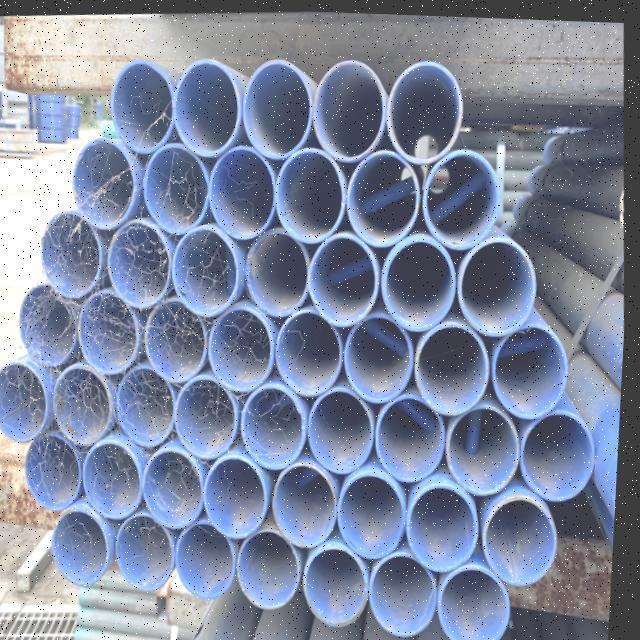pipe: (387, 56, 468, 160), (309, 55, 391, 157), (425, 142, 505, 244), (460, 232, 541, 332), (497, 318, 581, 413), (239, 57, 315, 158), (105, 59, 184, 153), (417, 318, 495, 411), (174, 57, 244, 159), (278, 146, 349, 246), (374, 396, 455, 483), (525, 403, 600, 496), (386, 231, 461, 323), (354, 147, 425, 244), (210, 144, 281, 240), (172, 226, 246, 317), (453, 402, 526, 492), (313, 226, 383, 319), (411, 478, 483, 568), (151, 296, 220, 389), (71, 137, 138, 231), (348, 313, 420, 400), (493, 498, 565, 585), (243, 382, 314, 468), (209, 309, 281, 393), (278, 311, 346, 399), (249, 221, 315, 311), (314, 387, 380, 477), (446, 559, 519, 640), (109, 218, 174, 308), (145, 144, 211, 232), (343, 470, 411, 554), (43, 210, 106, 300), (374, 554, 444, 635), (210, 450, 274, 537), (278, 460, 343, 545), (309, 544, 376, 625), (145, 443, 208, 528), (241, 528, 307, 607), (56, 361, 118, 445), (83, 289, 144, 374), (181, 377, 244, 459), (89, 435, 150, 517), (177, 516, 238, 598), (120, 365, 180, 447), (120, 510, 181, 590), (22, 287, 80, 370), (0, 358, 54, 445), (31, 430, 87, 513), (56, 510, 115, 588)
